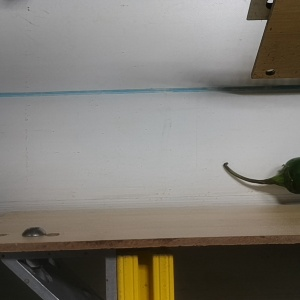Cut Point: (273, 152, 300, 197)
